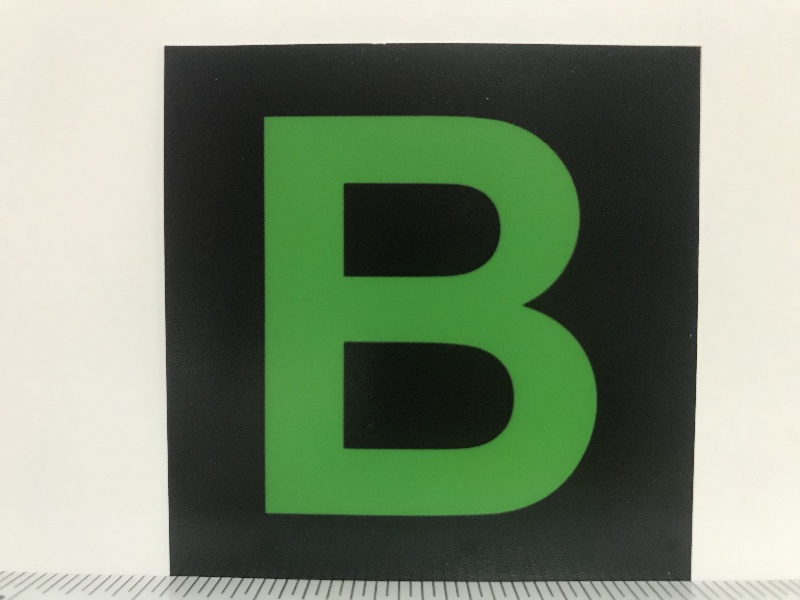B-12: (172, 50, 689, 576)
